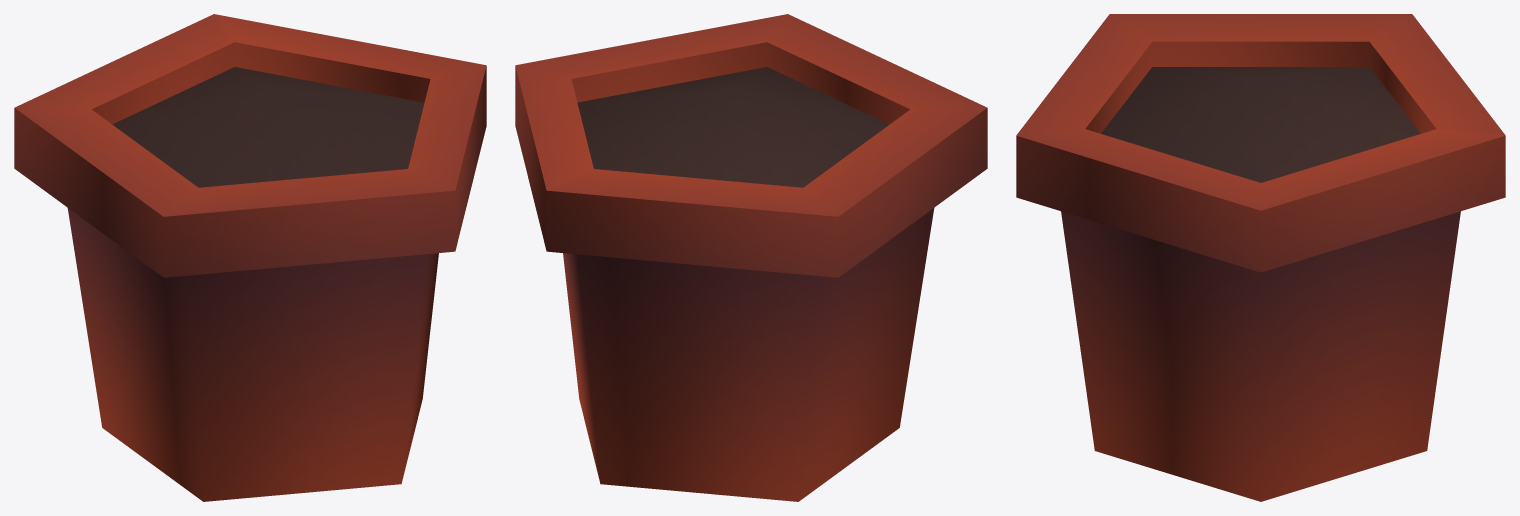
The model's file is Flowerpot01.fbx.
3 renders of one model, left to right at view 1: azimuth 30°, elevation 25°; view 2: azimuth 150°, elevation 25°; view 3: azimuth 270°, elevation 25°, orthographic.
Visible parts, largest first — view 1: FlowerPot01; view 2: FlowerPot01; view 3: FlowerPot01.
Part boxes in pixels (<box>): FlowerPot01: <box>14,14,486,501</box>; FlowerPot01: <box>515,14,987,501</box>; FlowerPot01: <box>1016,14,1505,501</box>.
Bounding box in the file's own units: 63.76 × 52.94 × 67.04.
Materials: 1 (1 with a texture image).
